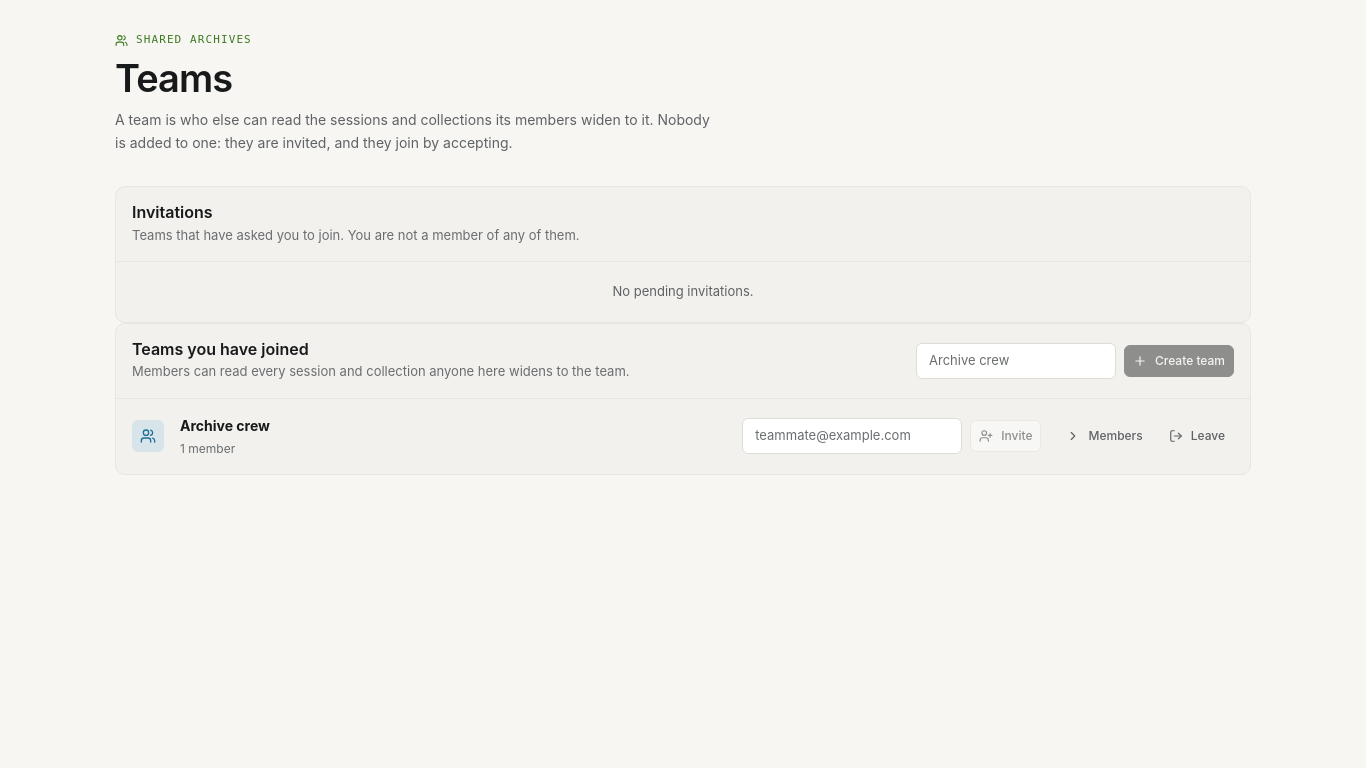
Test case: a team's roster › shows the invitation it just sent, which nothing else on the page could
Step 1. Type "grace@example.test" into the field named "Email to invite to Archive crew" → (852, 436), box [742,418,962,454]
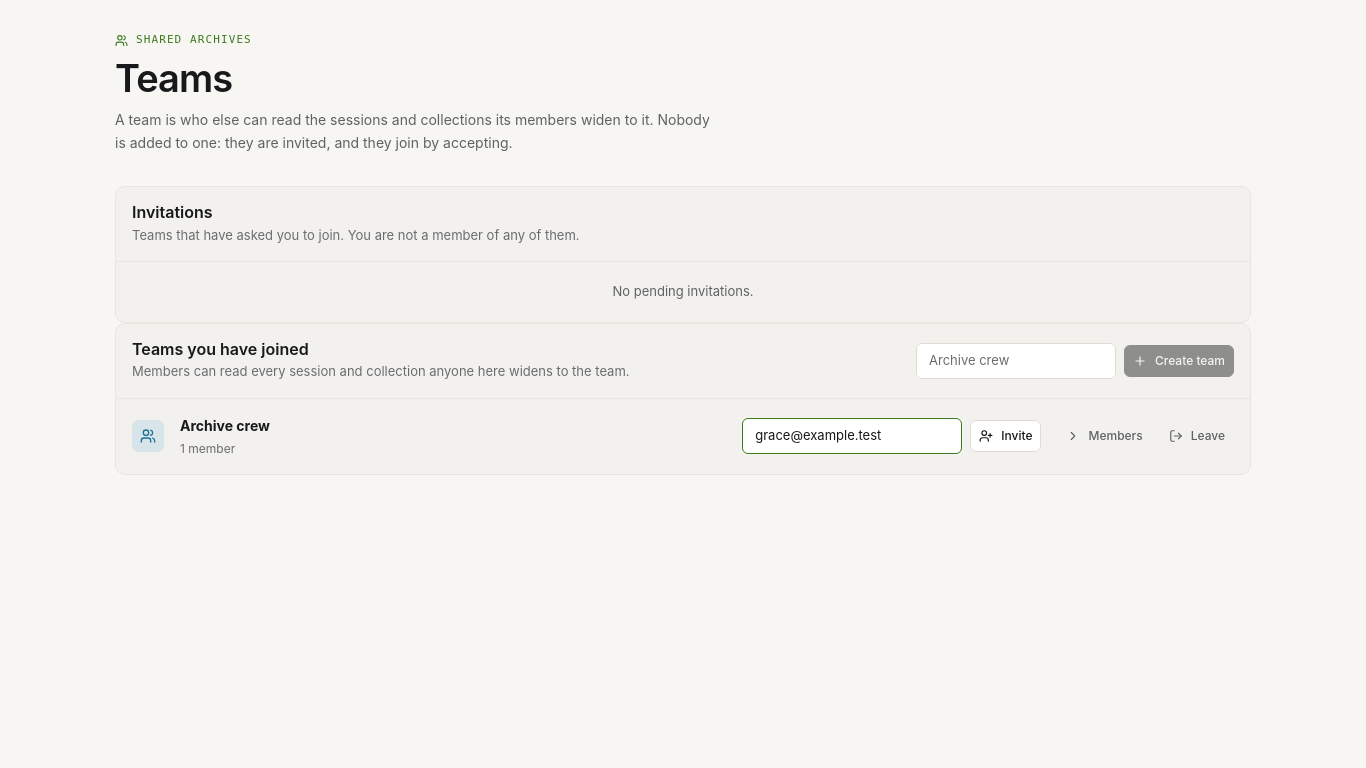
Step 2. Click the button "Invite" → (1006, 436), box [970,420,1042,452]
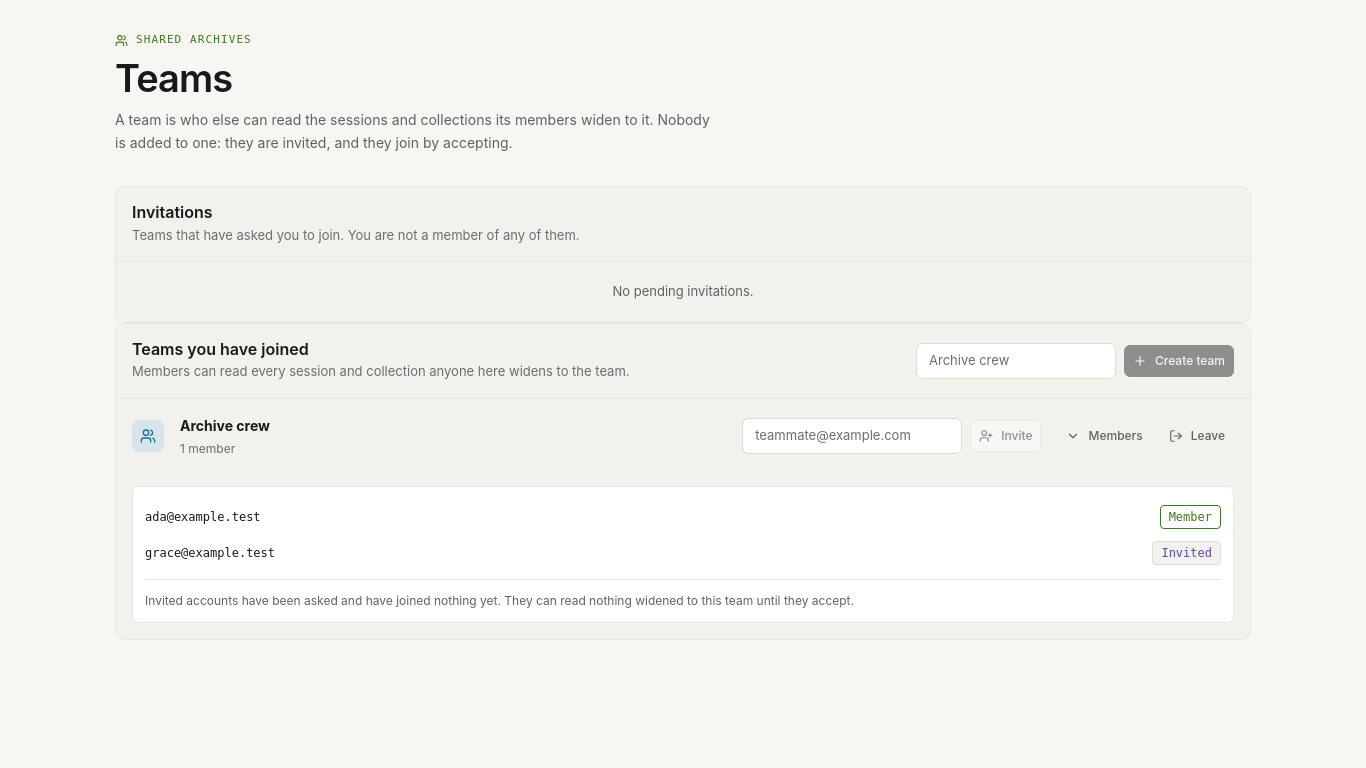
Expected: the text "grace@example.test" is shown, [145,544,275,562]
Expected: the text "Invited" is shown, [1152,541,1221,565]
